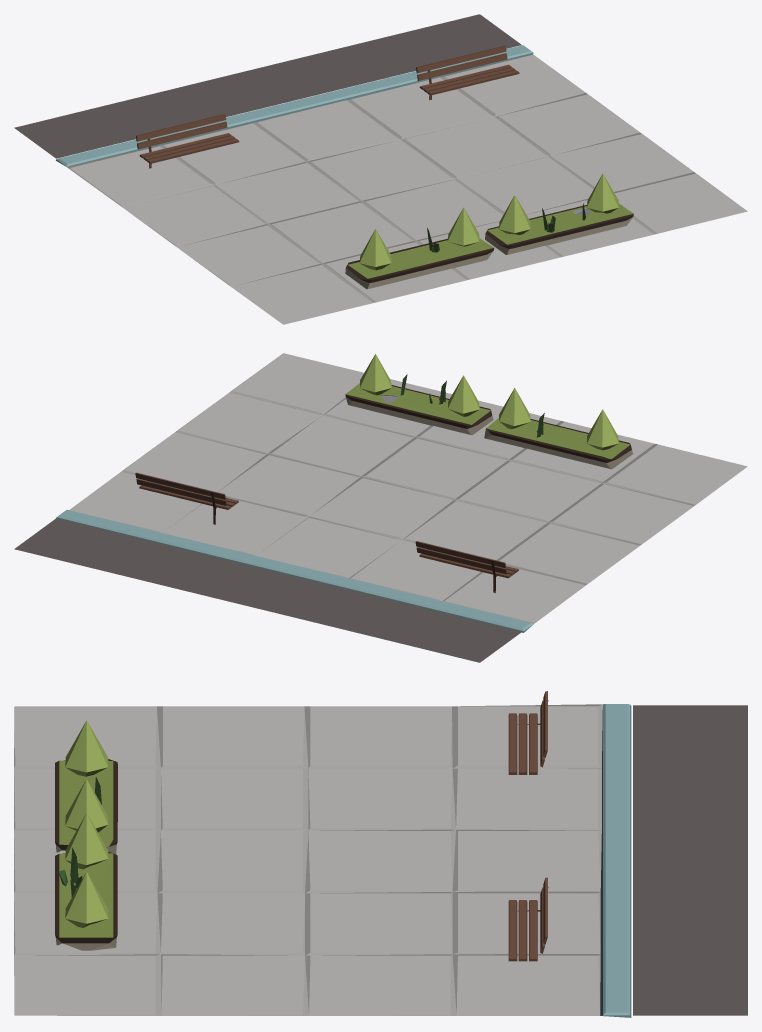
The model's file is QmQLCmVbaoVHXrjk2NbVprRrQqCYXHoQ62FqWcrWFSjMew_lod2.fbx.
The picture shows the model from 3 angles, top to bottom: view 1: azimuth 30°, elevation 25°; view 2: azimuth 150°, elevation 25°; view 3: azimuth 270°, elevation 25°; orthographic projection. The views are drawn at different scales.
Visible parts, largest first — view 1: Entity_512; view 2: Entity_512; view 3: Entity_512.
Boxes of the visible parts, x1=… form: Entity_512: x1=14, y1=14, x2=747, y2=324; Entity_512: x1=14, y1=353, x2=747, y2=662; Entity_512: x1=14, y1=691, x2=747, y2=1017.
Bounding box in the file's own units: 16000 × 1591 × 15918.
Materials: 1 (1 with a texture image).
